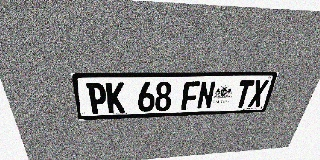6: (138, 82, 155, 112)
8: (155, 81, 173, 111)
F: (181, 81, 200, 110)
K: (106, 82, 125, 113)
N: (196, 81, 216, 110)
P: (86, 83, 107, 114)
T: (233, 80, 255, 108)
X: (247, 80, 269, 107)
